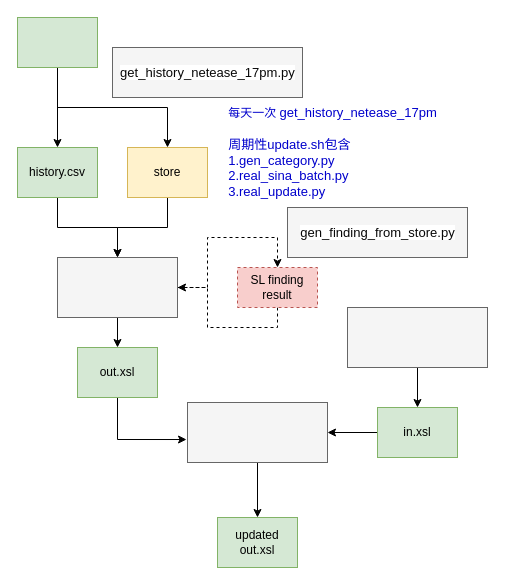
The diagram is 505 pixels wide and 585 high, and some of its shapes have lost their labels. The shapes that lost their labels are listed below. From the top down, each one's centre as x and y in pixels, then its label:
(x=57, y=42): list.csv
(x=117, y=287): gen_category.py
(x=417, y=337): real_sina_batch.py
(x=257, y=432): real_update.py
